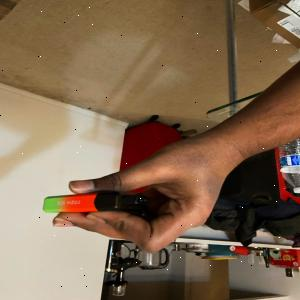Swift-E-Ciggirate: (35, 190, 160, 218)
